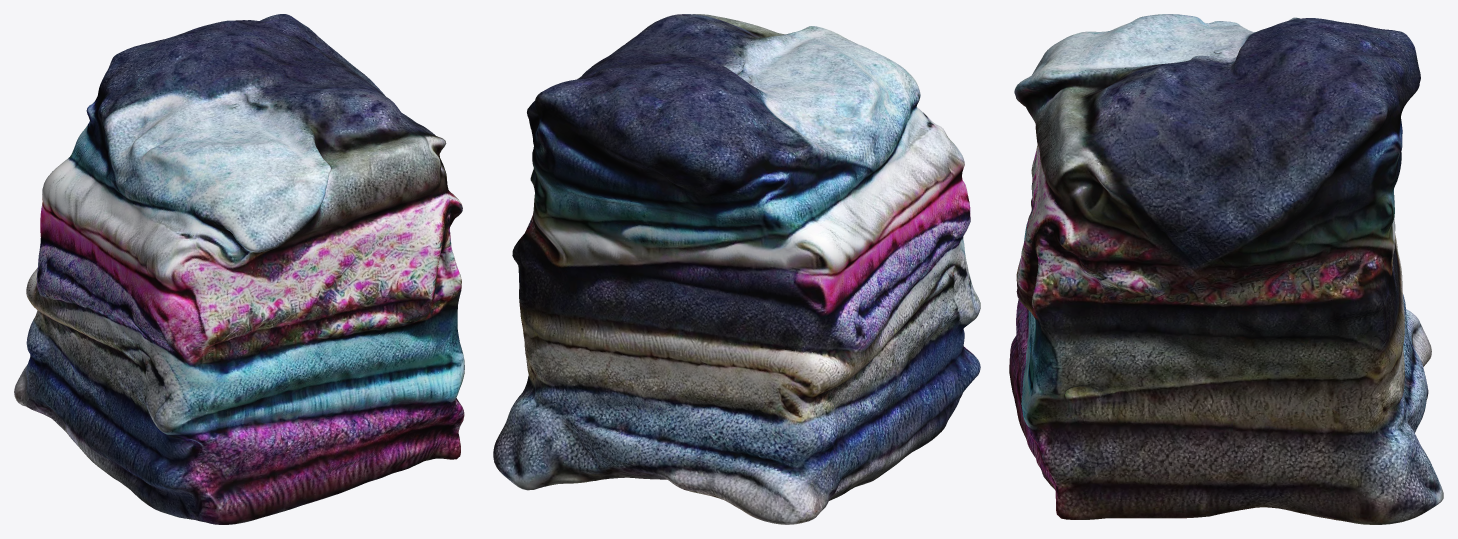
File: clothes_pile_2.glb
3 views of the same model, side by side, from view 1: azimuth 30°, elevation 25°; view 2: azimuth 150°, elevation 25°; view 3: azimuth 270°, elevation 25° (orthographic). The views are drawn at different scales.
Visible parts, largest first — view 1: default_008-material; view 2: default_008-material; view 3: default_008-material.
Part boxes in pixels (box(x1,y1,x2,y2)): default_008-material: box(14, 14, 464, 524); default_008-material: box(493, 14, 980, 524); default_008-material: box(1009, 14, 1443, 524).
Size of the model in its own units: 1.23 by 1.3 by 1.23.
1 material, 1 textured.
